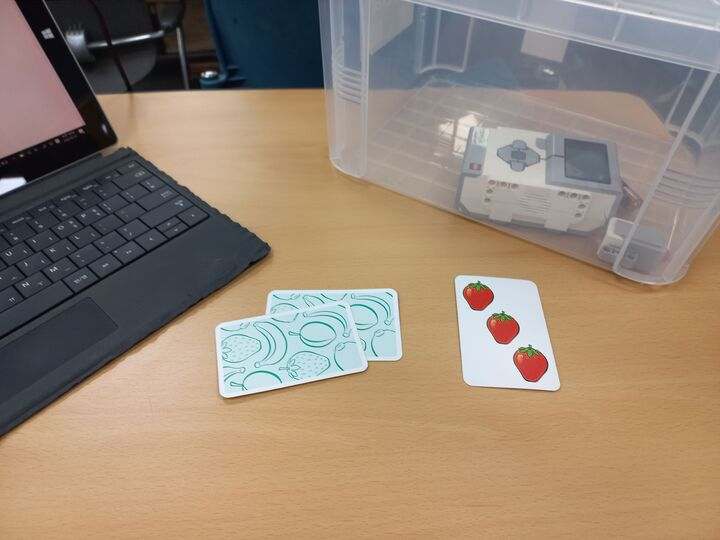strawberry3: (454, 273, 562, 392)
